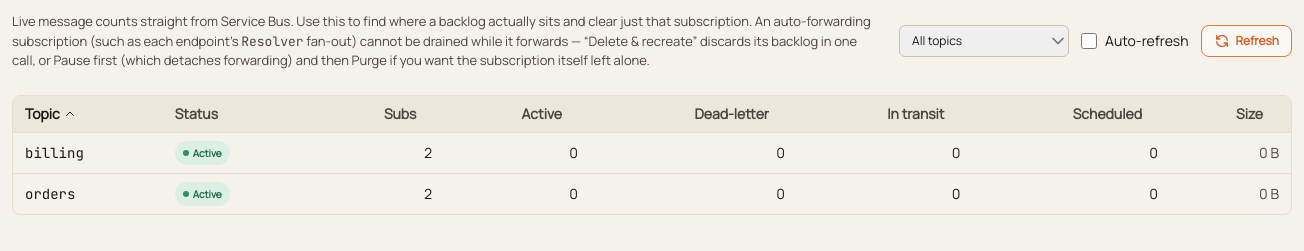
SubscriptionManager › arms only the rules the platform can restore
Step 1. Click the button "orders" → click(50, 194), box [25, 184, 75, 204]
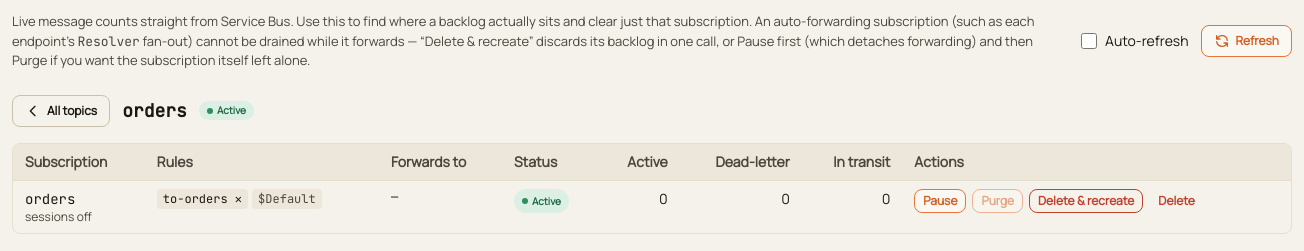
expect the button "to-orders ✕" is shown: met, box [157, 188, 248, 208]
expect the text "$Default" is shown: met, box [252, 188, 322, 208]
